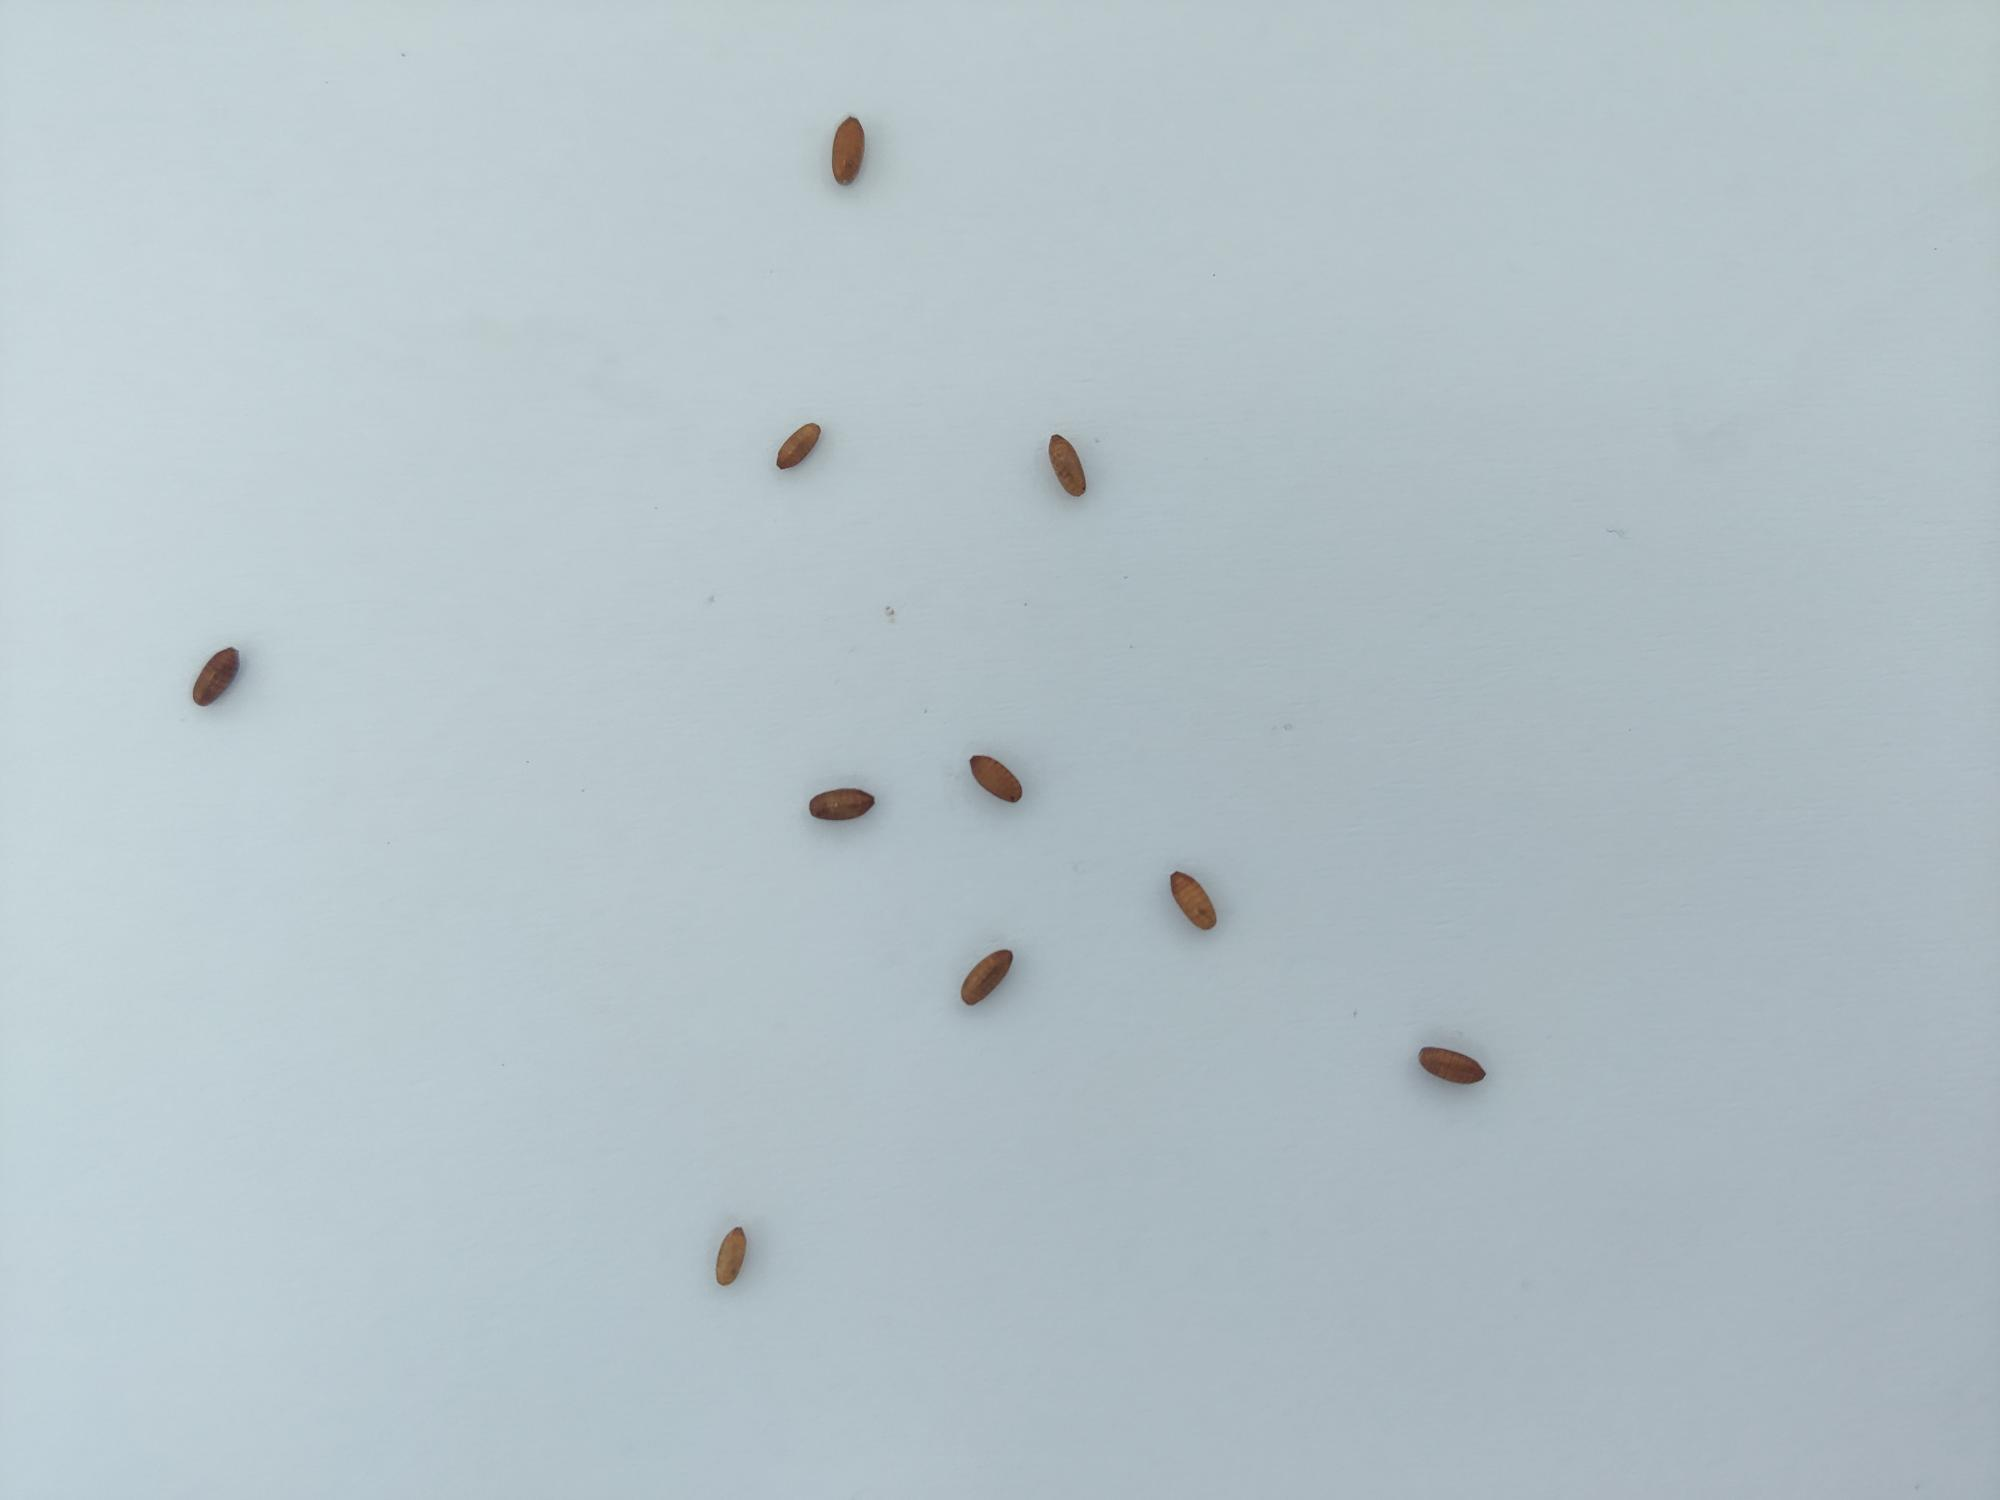pupae: (1411, 1034, 1491, 1100), (186, 640, 252, 718), (1156, 865, 1224, 939), (953, 944, 1020, 1013), (762, 413, 828, 477), (1038, 422, 1093, 498), (959, 750, 1030, 807), (798, 782, 880, 830), (706, 1216, 754, 1295), (825, 113, 872, 194)
